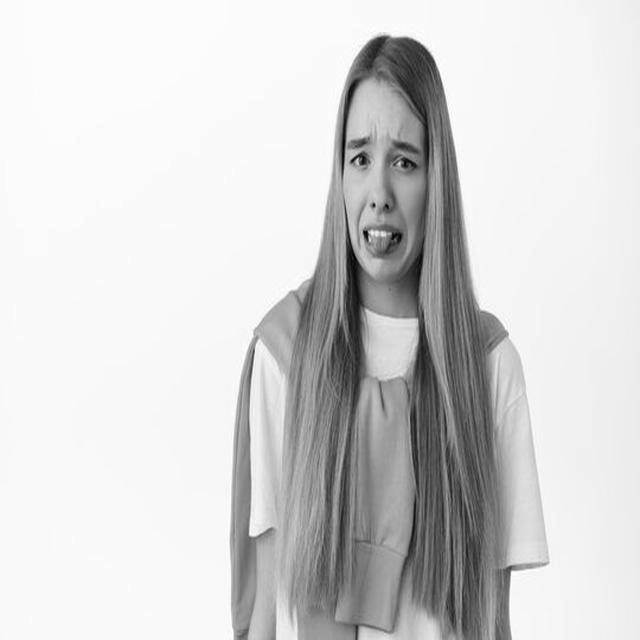Disgust: (344, 75, 430, 283)
